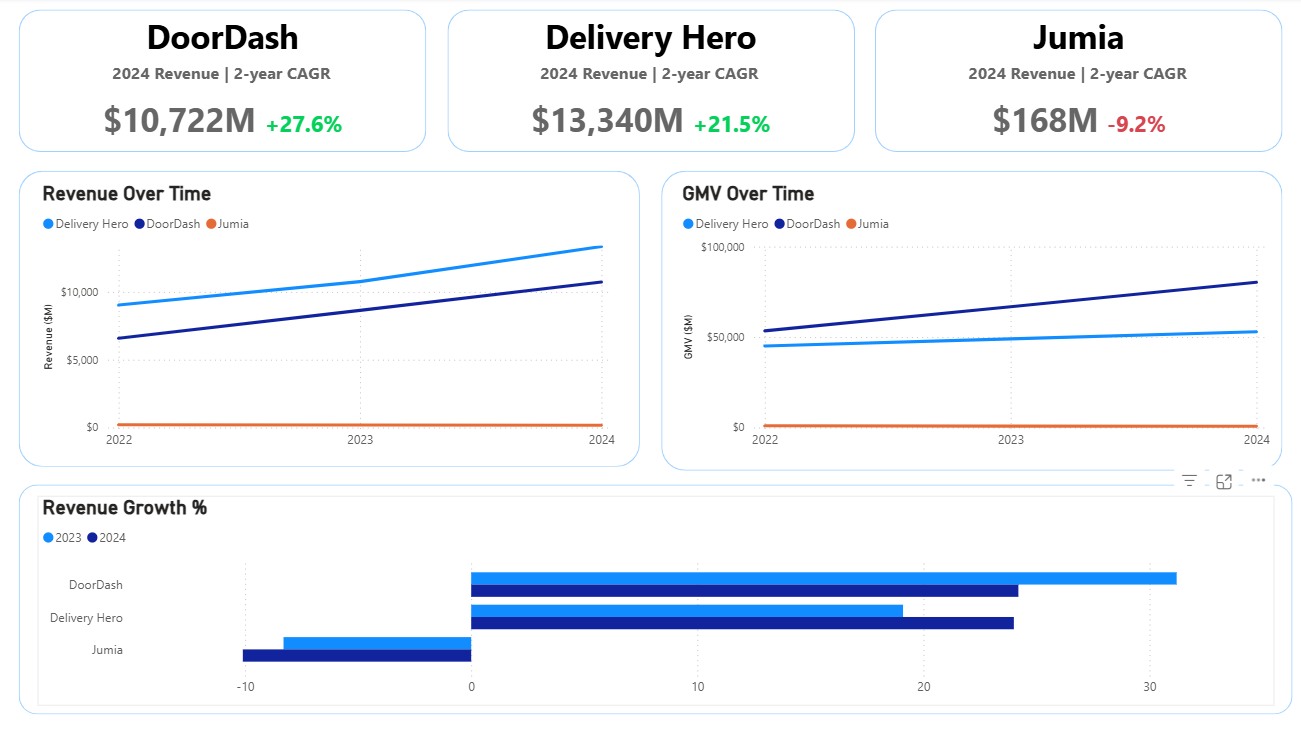

Layout of this report page (visuals, bound fields, positions):
{"tool":"powerbi","page":{"name":"Revenue Story","canvas":[1280,720],"ordinal":0},"visuals":[{"type":"shape","box":[649.1,170.6,609.8,294.5],"z":0},{"type":"shape","box":[18.4,478.5,1250.3,225.8],"z":1000},{"type":"shape","box":[18.4,170.6,609.8,290.8],"z":2000},{"type":"shape","box":[18.4,12.3,400,139.9],"z":3000},{"type":"shape","box":[438.7,12.3,400,139.9],"z":4000},{"type":"shape","box":[858.9,12.3,400,139.9],"z":5000},{"type":"lineChart","title":"GMV Over Time","fields":{"Category":["Master Data.Year"],"Y":["Sum(Master Data.GMV_USD)"],"Series":["Master Data.Company"]},"box":[665,181.6,586.5,271.2],"z":6000},{"type":"lineChart","title":" Revenue Over Time","fields":{"Category":["Master Data.Year"],"Y":["Sum(Master Data.Revenue_USD)"],"Series":["Master Data.Company"]},"box":[36.8,181.6,571.8,271.2],"z":7000},{"type":"clusteredBarChart","title":"Revenue Growth %","fields":{"Category":["Master Data.Company"],"Y":["Sum(Master Data.Revenue_Growth_Pct)"],"Series":["Master Data.Year"]},"box":[36.8,489.6,1214.7,206.1],"z":8000},{"type":"textbox","box":[18.4,93.3,400,57.7],"z":9000},{"type":"textbox","box":[18.4,12.3,400,54],"z":10000},{"type":"textbox","box":[18.4,57.7,398,35],"z":11000},{"type":"textbox","box":[439.3,12.3,398.8,54],"z":12000},{"type":"textbox","box":[438.3,57.7,398.8,35],"z":13000},{"type":"textbox","box":[439.3,93.3,398.8,57.7],"z":14000},{"type":"textbox","box":[858.9,12.3,400,54],"z":15000},{"type":"textbox","box":[858.9,57.7,398,35],"z":16000},{"type":"textbox","box":[858.9,93.3,400,57.7],"z":17000}]}

Visuals, with their boxes in screenshot pixels (x1, y1, x2, y2), scaled from the page's 1280x720 canvas onto the 1301x730 screenshot:
shape: box(660, 173, 1280, 472)
shape: box(19, 485, 1290, 714)
shape: box(19, 173, 639, 468)
shape: box(19, 12, 425, 154)
shape: box(446, 12, 852, 154)
shape: box(873, 12, 1280, 154)
"GMV Over Time" lineChart: box(676, 184, 1272, 459)
" Revenue Over Time" lineChart: box(37, 184, 619, 459)
"Revenue Growth %" clusteredBarChart: box(37, 496, 1272, 705)
textbox: box(19, 95, 425, 153)
textbox: box(19, 12, 425, 67)
textbox: box(19, 59, 423, 94)
textbox: box(447, 12, 852, 67)
textbox: box(445, 59, 851, 94)
textbox: box(447, 95, 852, 153)
textbox: box(873, 12, 1280, 67)
textbox: box(873, 59, 1278, 94)
textbox: box(873, 95, 1280, 153)
